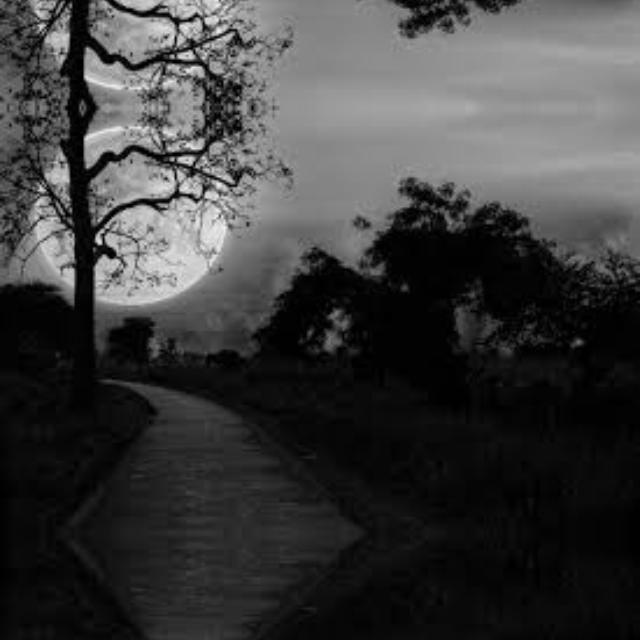obstacle: (22, 107, 168, 399), (22, 0, 167, 107)
